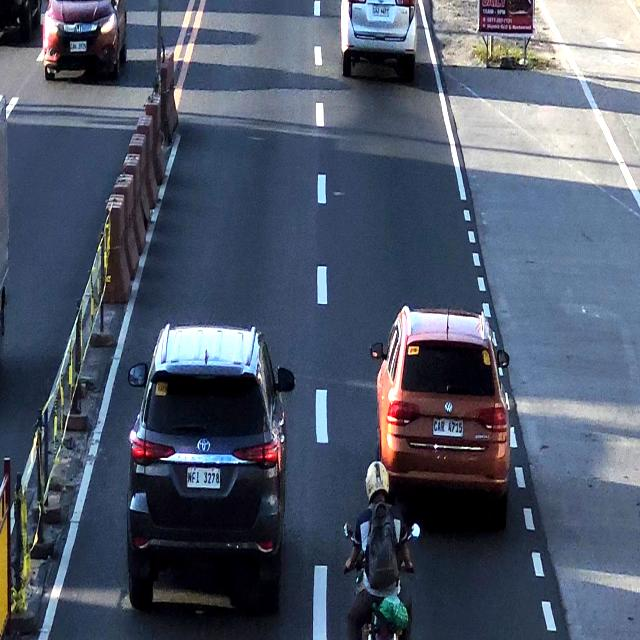Car: (126, 323, 276, 613), (379, 303, 514, 493), (342, 0, 418, 85)
License-Plate: (185, 468, 223, 491), (431, 416, 464, 442), (370, 2, 390, 22)
Motorcycle: (351, 445, 408, 639)
